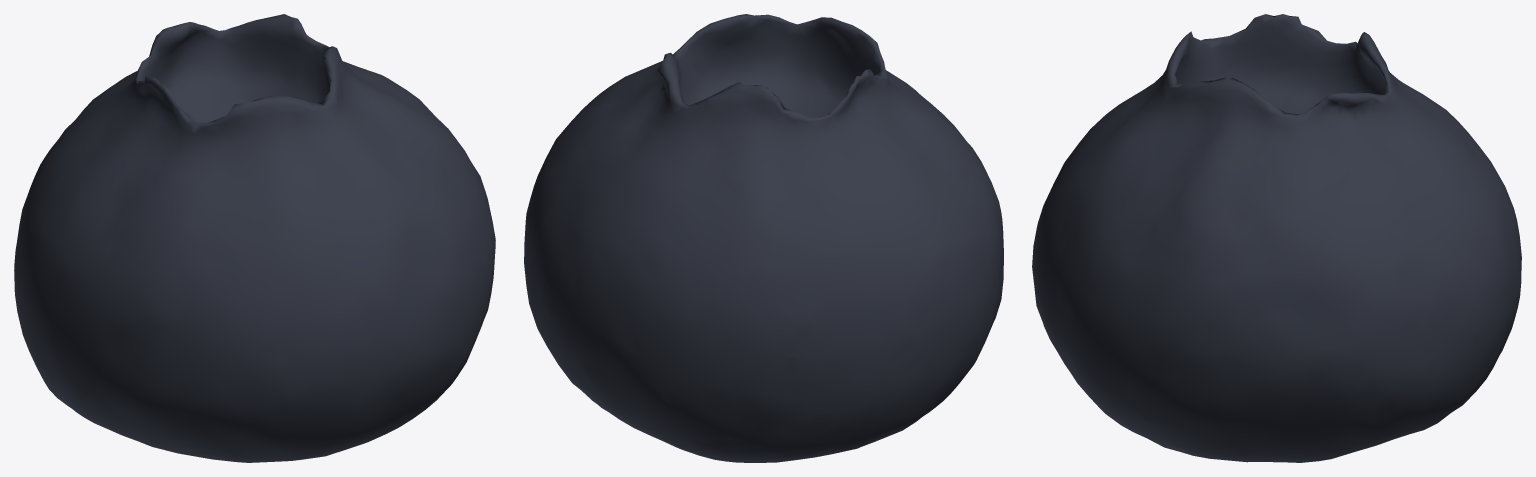
Rendered from blueberry.glb.
3 views of the same model, side by side, from view 1: azimuth 30°, elevation 25°; view 2: azimuth 150°, elevation 25°; view 3: azimuth 270°, elevation 25° (orthographic).
Parts seen in each view (by area): view 1: Blueberry_0; view 2: Blueberry_0; view 3: Blueberry_0.
Boxes of the visible parts, bbox=[...] form: Blueberry_0: bbox=[14, 14, 495, 462]; Blueberry_0: bbox=[524, 14, 1003, 462]; Blueberry_0: bbox=[1032, 14, 1521, 462].
Bounding box in the file's own units: 1.76 × 1.47 × 1.8.
Materials: 1 (1 with a texture image).
